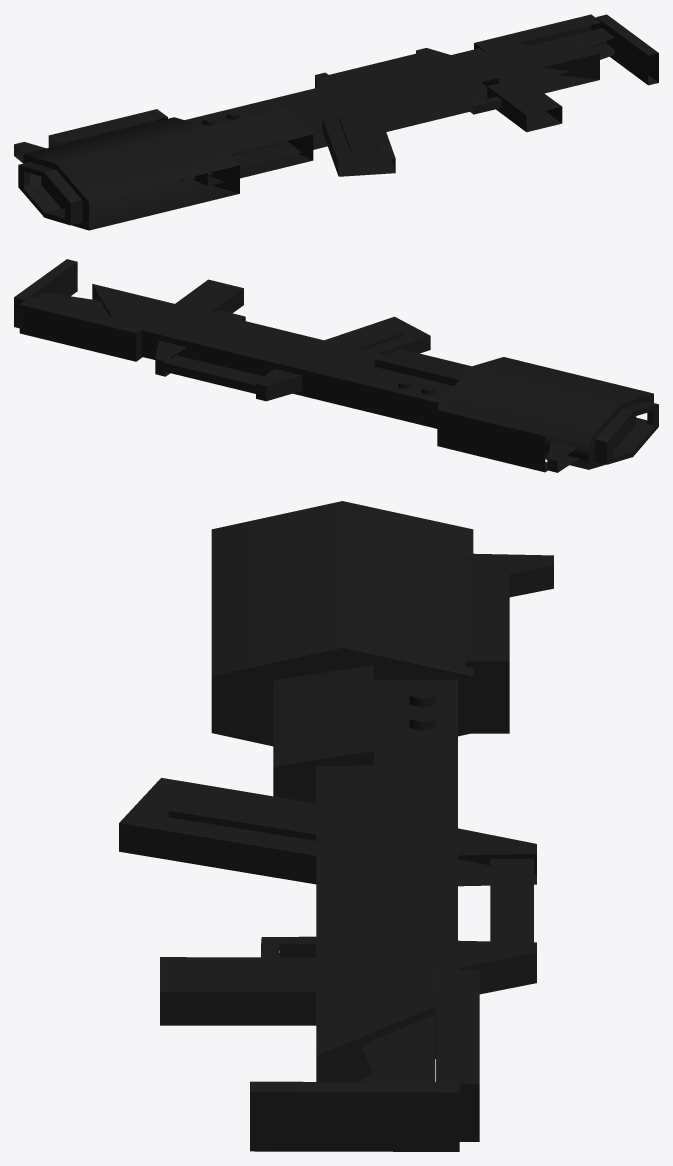
The model's file is defaultgun.FBX.
3 views of the same model, one above another, from view 1: azimuth 30°, elevation 25°; view 2: azimuth 150°, elevation 25°; view 3: azimuth 270°, elevation 25° (orthographic). The views are drawn at different scales.
Parts seen in each view (by area): view 1: Cylinder001, Box001, Box005, Box004, Box002, Box003, Box012, Box008, Box010, Box013, Plane002, Plane001 (+1 smaller); view 2: Box001, Cylinder001, Box008, Box012, Box004, Box005, Box013, Box003, Box002, Box015, Box010, Box007 (+3 smaller); view 3: Cylinder001, Box001, Box004, Box005, Box002, Box003, Box008, Box012, Box010, Box013, Box014, Box015 (+4 smaller).
Boxes of the visible parts, box(x1,y1,x2,y2) form: Cylinder001: box(18, 117, 239, 230); Box001: box(180, 43, 599, 181); Box005: box(193, 108, 313, 186); Box004: box(482, 14, 658, 86); Box002: box(322, 113, 395, 176); Box003: box(487, 77, 562, 132); Box012: box(474, 14, 601, 51); Box008: box(48, 109, 167, 147); Box010: box(338, 111, 377, 151); Box013: box(329, 53, 427, 81); Plane002: box(295, 49, 572, 116); Plane001: box(265, 89, 344, 111); Box001: box(92, 284, 453, 428); Cylinder001: box(438, 357, 658, 469); Box008: box(437, 402, 555, 472); Box012: box(19, 296, 147, 361); Box004: box(14, 259, 108, 328); Box005: box(374, 349, 471, 385); Box013: box(165, 355, 263, 393); Box003: box(175, 279, 243, 314); Box002: box(324, 316, 430, 354); Box015: box(256, 368, 301, 401); Box010: box(334, 324, 404, 349); Box007: box(547, 440, 578, 472); Cylinder001: box(211, 501, 473, 746); Box001: box(316, 679, 457, 1081); Box004: box(250, 1015, 459, 1151); Box005: box(273, 665, 373, 803); Box002: box(119, 777, 316, 884); Box003: box(160, 957, 316, 1025); Box008: box(465, 556, 509, 733); Box012: box(436, 970, 479, 1141); Box010: box(168, 790, 316, 840); Box013: box(490, 858, 533, 942); Box014: box(458, 940, 536, 994); Box015: box(458, 828, 536, 886).
Bounding box in the file's own units: 154 × 14.16 × 49.13.
